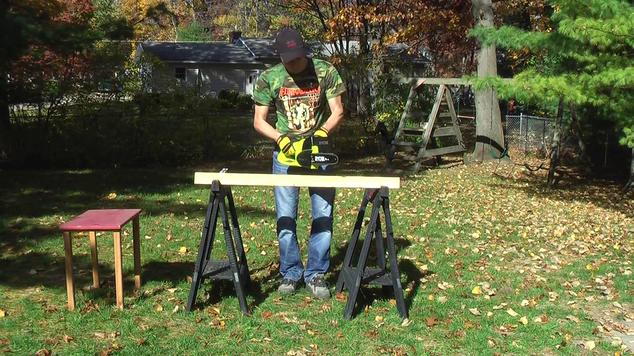sit: (252, 34, 348, 181)
stay: (252, 34, 348, 181)
